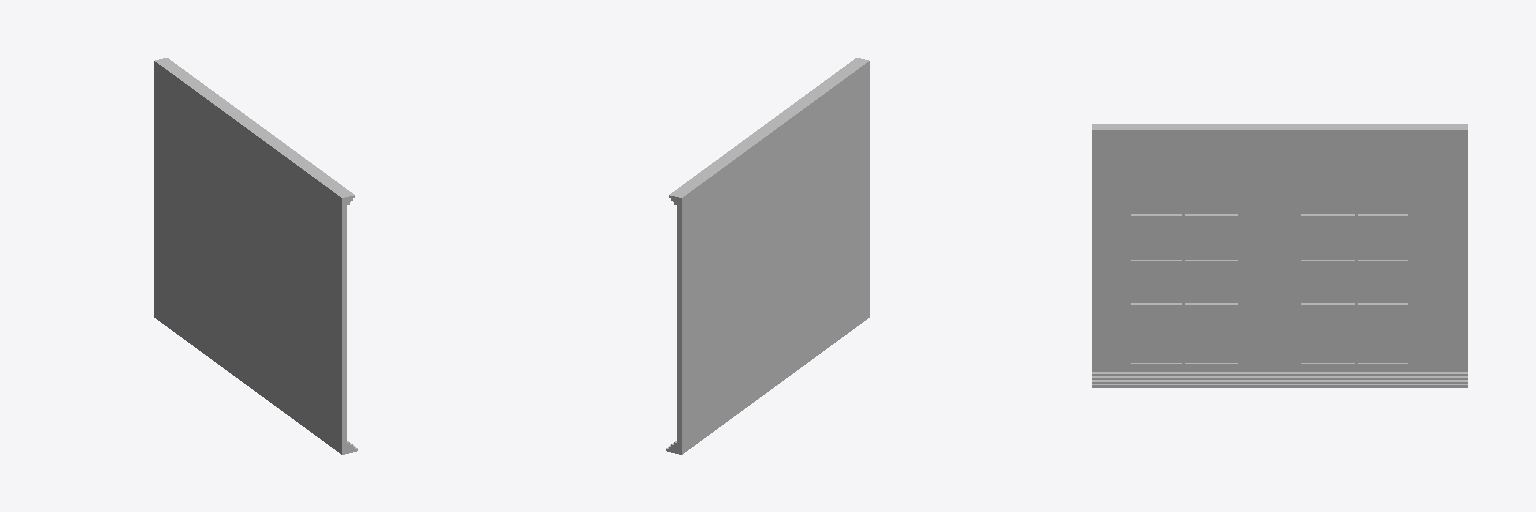
The model's file is wall2.obj.
The picture shows the model from 3 angles: view 1: azimuth 30°, elevation 25°; view 2: azimuth 150°, elevation 25°; view 3: azimuth 270°, elevation 25°; orthographic projection.
Size of the model in its own units: 6 by 95 by 126.